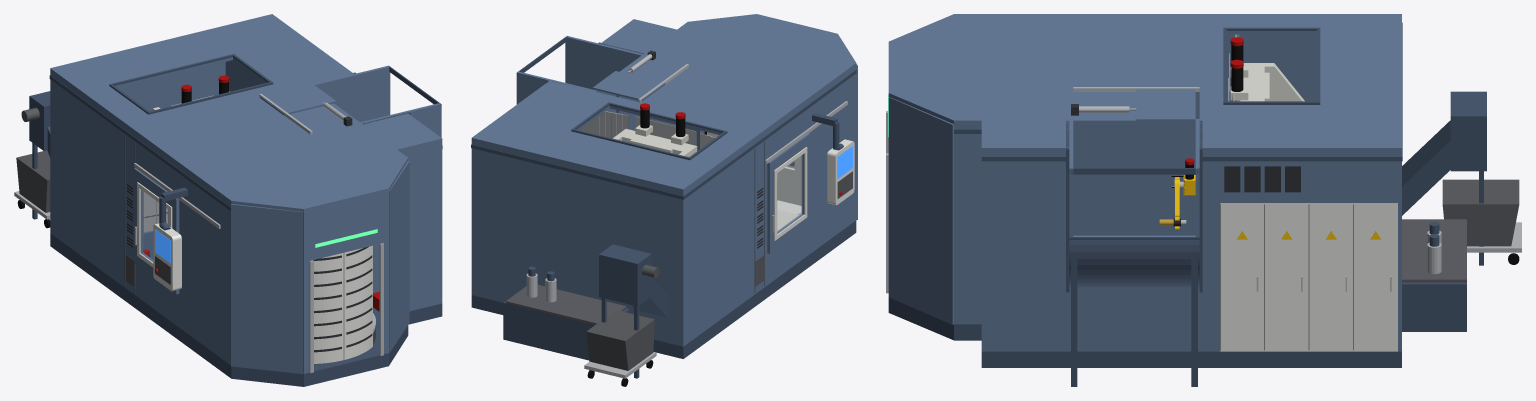
The model's file is clock1200evo_fms_blue_left.glb.
The picture shows the model from 3 angles, left to right: view 1: azimuth 30°, elevation 25°; view 2: azimuth 150°, elevation 25°; view 3: azimuth 270°, elevation 25°; orthographic projection. The views are drawn at different scales.
Parts seen in each view (by area): view 1: enclosure__mcm_blue, apc_housing__mcm_blue, enclosure__mcm_blue_dk, tc_box__mcm_blue, apc_housing__mcm_blue_dk, apc_door_left__evo_white, apc_door_right__evo_white, chip_cart__steel_dark, operator_door__mcm_blue, tc_door__mcm_blue, chip_coolant__mcm_blue_dk, apc_housing__steel (+9 smaller); view 2: enclosure__mcm_blue, chip_coolant__mcm_blue_dk, apc_housing__mcm_blue, enclosure__mcm_blue_dk, tc_box__mcm_blue, chip_cart__steel_dark, chip_coolant__anthracite_lt, operator_door__mcm_blue, operator_door__glass_clear, tc_door__mcm_blue, column__struct_grey, apc_turntable__evo_white (+10 smaller); view 3: enclosure__mcm_blue, apc_housing__mcm_blue, electrical_cabinet__evo_white, enclosure__mcm_blue_dk, chip_coolant__mcm_blue_dk, tc_door__mcm_blue, tc_box__mcm_blue, chip_cart__steel_dark, chip_coolant__anthracite_lt, tc_box__mcm_blue_dk, column__struct_grey, enclosure__anthracite (+4 smaller).
Part boxes in pixels (x1,y1,x2,y2): enclosure__mcm_blue: (50,14,442,357); apc_housing__mcm_blue: (220,149,409,373); enclosure__mcm_blue_dk: (49,54,442,370); tc_box__mcm_blue: (313,65,441,137); apc_housing__mcm_blue_dk: (220,200,408,386); apc_door_left__evo_white: (343,245,372,359); apc_door_right__evo_white: (314,253,343,363); chip_cart__steel_dark: (16,150,50,212); operator_door__mcm_blue: (134,168,179,294); tc_door__mcm_blue: (260,83,336,115); chip_coolant__mcm_blue_dk: (29,91,50,219); apc_housing__steel: (309,243,383,373); enclosure__mcm_blue: (471,19,845,346); chip_coolant__mcm_blue_dk: (503,244,667,378); apc_housing__mcm_blue: (677,14,857,227); enclosure__mcm_blue_dk: (471,42,845,358); tc_box__mcm_blue: (516,36,642,104); chip_cart__steel_dark: (586,310,654,370); chip_coolant__anthracite_lt: (506,284,626,324); operator_door__mcm_blue: (767,133,810,253); operator_door__glass_clear: (778,155,802,231); tc_door__mcm_blue: (592,71,665,112); column__struct_grey: (613,125,697,156); apc_turntable__evo_white: (707,132,801,213); enclosure__mcm_blue: (981,14,1401,351); apc_housing__mcm_blue: (888,14,981,324); electrical_cabinet__evo_white: (1220,203,1397,351); enclosure__mcm_blue_dk: (981,22,1402,367); chip_coolant__mcm_blue_dk: (1402,91,1486,331); tc_door__mcm_blue: (1136,89,1195,235); tc_box__mcm_blue: (1069,120,1199,287); chip_cart__steel_dark: (1442,179,1519,246); chip_coolant__anthracite_lt: (1402,219,1466,282); tc_box__mcm_blue_dk: (1069,168,1199,386); column__struct_grey: (1230,63,1304,101); enclosure__anthracite: (1071,104,1300,192).
Bounding box in the file's own units: 5.06 × 3.22 × 7.86.
